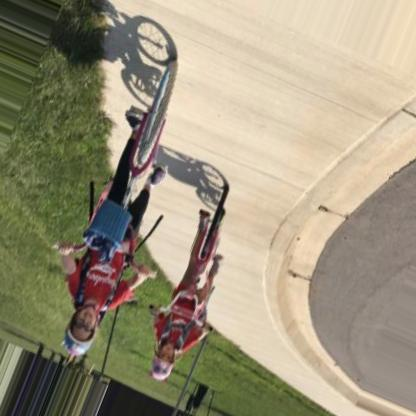with helmet: (61, 304, 98, 354), (151, 341, 176, 380)
